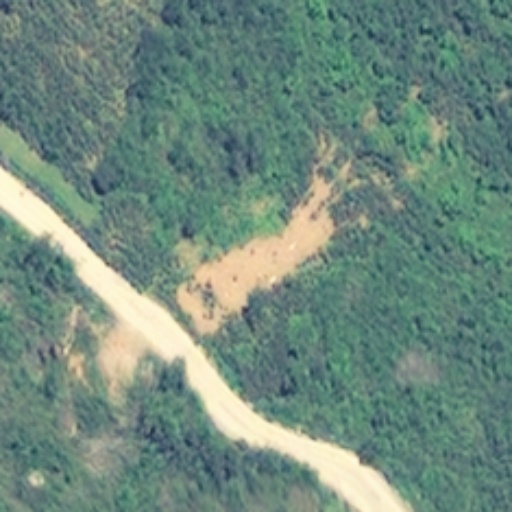landslide: (180, 183, 330, 329), (97, 326, 143, 385)
